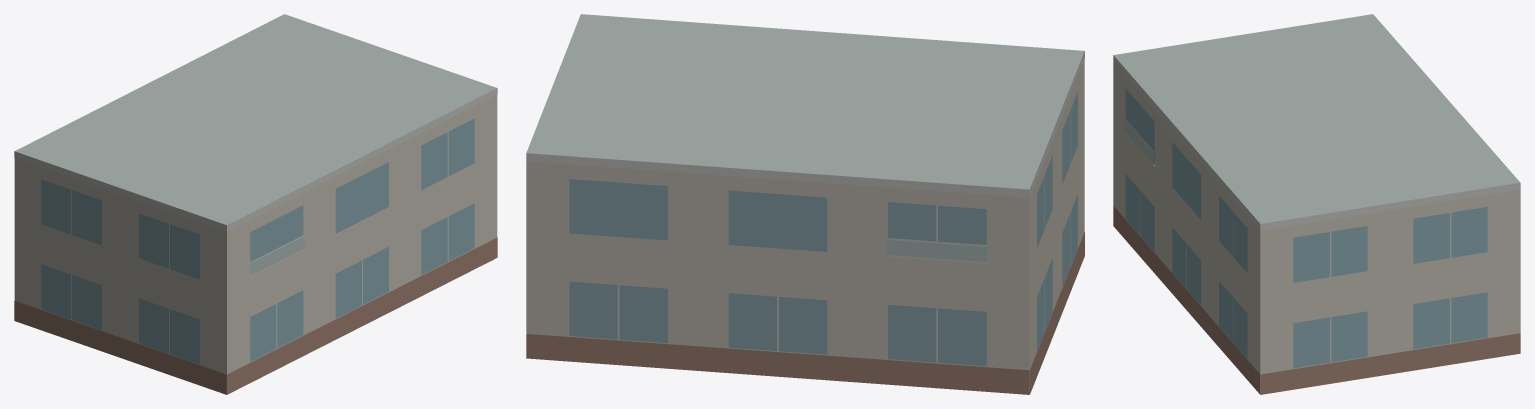
The model's file is survey-upis-33022285.glb.
3 renders of one model, left to right at view 1: azimuth 30°, elevation 25°; view 2: azimuth 150°, elevation 25°; view 3: azimuth 270°, elevation 25°, orthographic. The views are drawn at different scales.
Parts seen in each view (by area): view 1: survey-upis-33022285.tmp; view 2: survey-upis-33022285.tmp; view 3: survey-upis-33022285.tmp.
Boxes of the visible parts, x1,y1,x2,y2 form: survey-upis-33022285.tmp: (14,14,497,394); survey-upis-33022285.tmp: (526,14,1084,394); survey-upis-33022285.tmp: (1113,14,1520,394).
Bounding box in the file's own units: 16.08 × 6.1 × 13.18.
